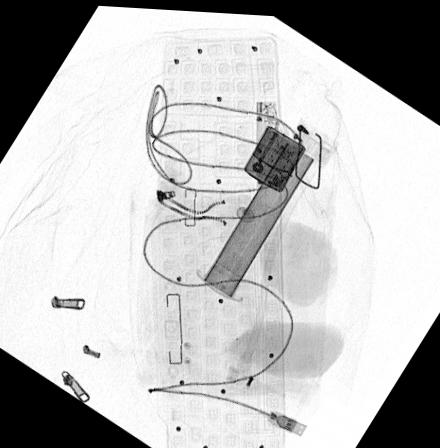Lighter: (242, 120, 306, 188)
